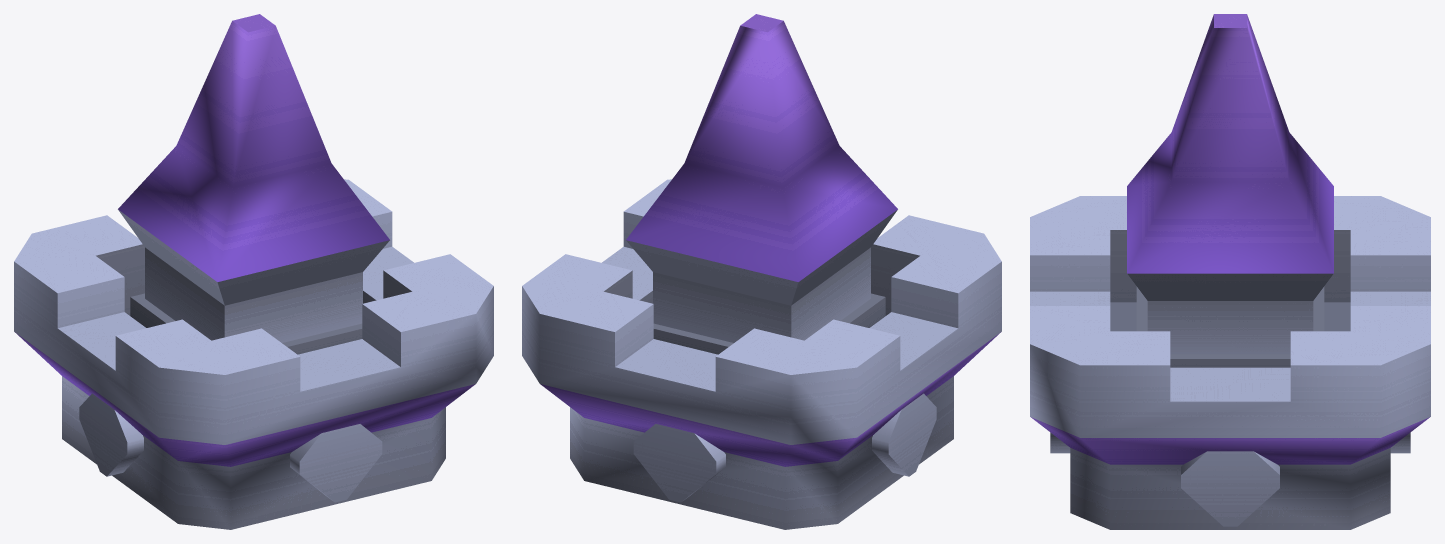
File: tower-square-roof-c.glb
The picture shows the model from 3 angles, left to right: view 1: azimuth 30°, elevation 25°; view 2: azimuth 150°, elevation 25°; view 3: azimuth 270°, elevation 25°; orthographic projection. The views are drawn at different scales.
Parts seen in each view (by area): view 1: tower-square-roof-c; view 2: tower-square-roof-c; view 3: tower-square-roof-c.
Part boxes in pixels (x1,y1,x2,y2): tower-square-roof-c: [14, 14, 493, 529]; tower-square-roof-c: [522, 14, 1001, 529]; tower-square-roof-c: [1030, 14, 1430, 529].
Bounding box in the file's own units: 1 × 1.21 × 1.
Materials: 1 (1 with a texture image).
